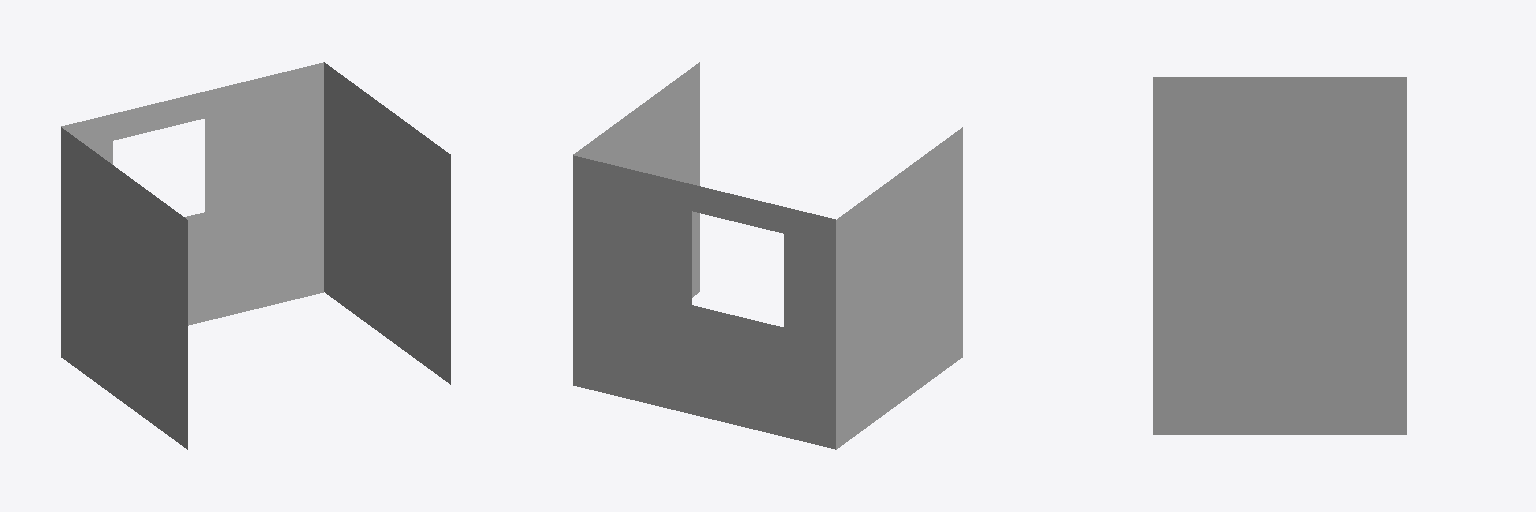
File: wall.obj
3 views of the same model, side by side, from view 1: azimuth 30°, elevation 25°; view 2: azimuth 150°, elevation 25°; view 3: azimuth 270°, elevation 25° (orthographic).
Parts seen in each view (by area): view 1: Plane.001; view 2: Plane.001; view 3: Plane.001.
Part boxes in pixels (x1,y1,x2,y2): Plane.001: (61, 62, 450, 449); Plane.001: (573, 62, 962, 449); Plane.001: (1153, 77, 1406, 434).
Size of the model in its own units: 6 by 5 by 5.